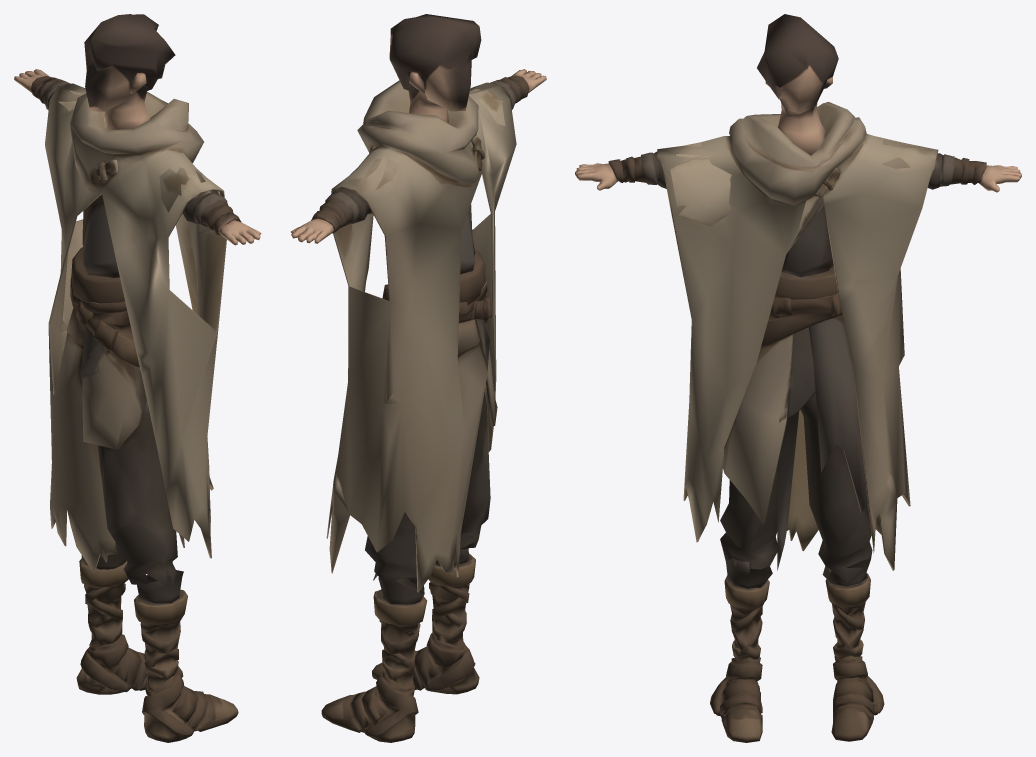
The model's file is char_player_feetfix.glb.
3 views of the same model, side by side, from view 1: azimuth 30°, elevation 25°; view 2: azimuth 150°, elevation 25°; view 3: azimuth 270°, elevation 25° (orthographic). The views are drawn at different scales.
Parts seen in each view (by area): view 1: tripo_node_a38a1dcd-5020-4025-bec0-ba2b309e82f7; view 2: tripo_node_a38a1dcd-5020-4025-bec0-ba2b309e82f7; view 3: tripo_node_a38a1dcd-5020-4025-bec0-ba2b309e82f7.
Boxes of the visible parts, left/top/right/bottom form: tripo_node_a38a1dcd-5020-4025-bec0-ba2b309e82f7: left=14, top=14, right=261, bottom=742; tripo_node_a38a1dcd-5020-4025-bec0-ba2b309e82f7: left=291, top=14, right=546, bottom=742; tripo_node_a38a1dcd-5020-4025-bec0-ba2b309e82f7: left=575, top=14, right=1021, bottom=742.
Size of the model in its own units: 0.2076 by 0.998 by 0.5957.
1 material, 1 textured.
